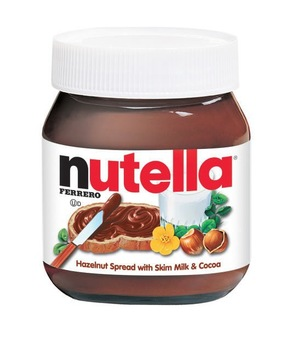nutella: (41, 25, 251, 306)
